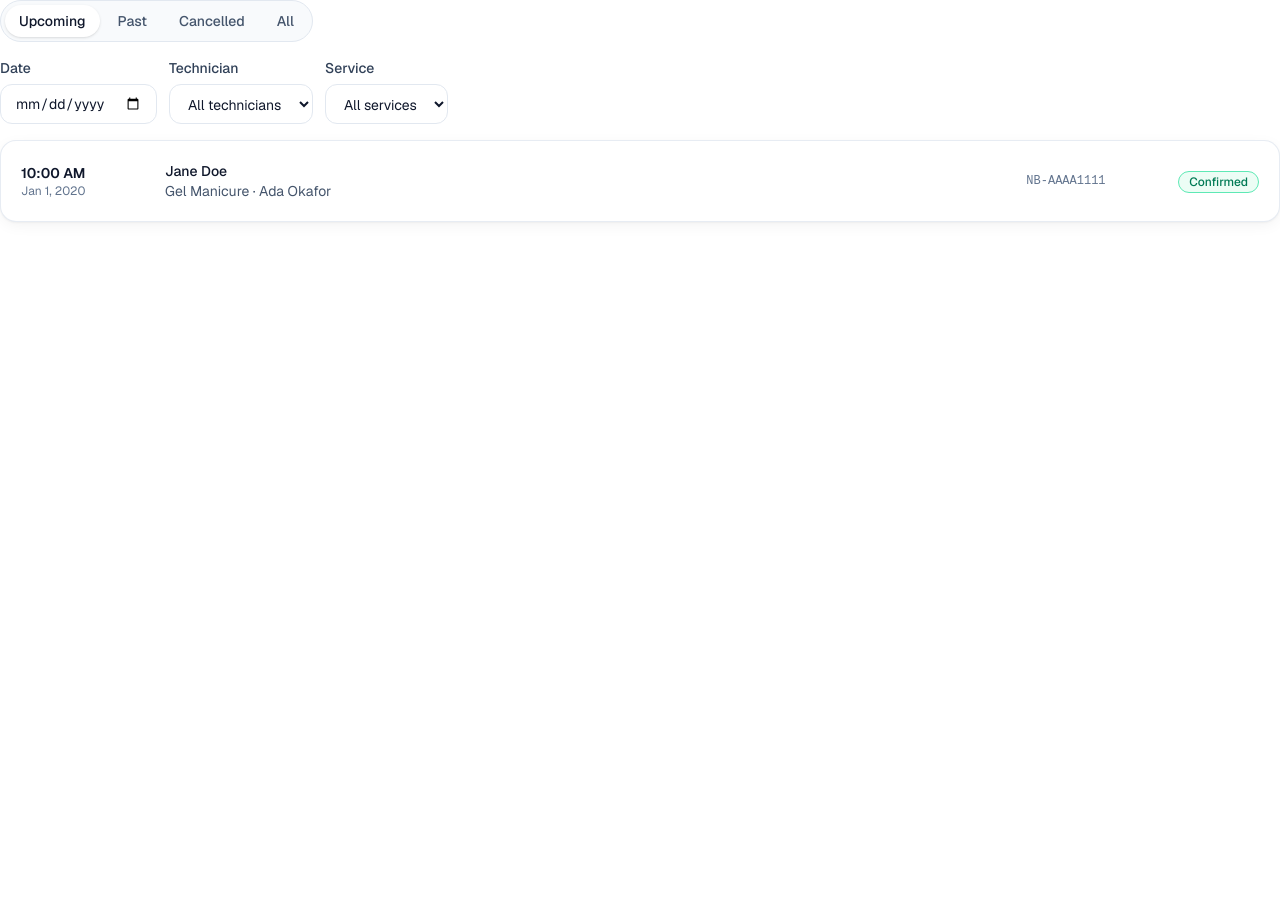
Test: S13-BE lifecycle — Complete › CONFIRMED → Mark completed → confirm → COMPLETED shown → actions removed → moves out of Upcoming into Past
Check: the text "Jane Doe" is shown, box [165,162,227,180]
Click the button with aria-label "view booking details for jane doe" at {"x": 53, "y": 173}, box [21,161,1154,201]
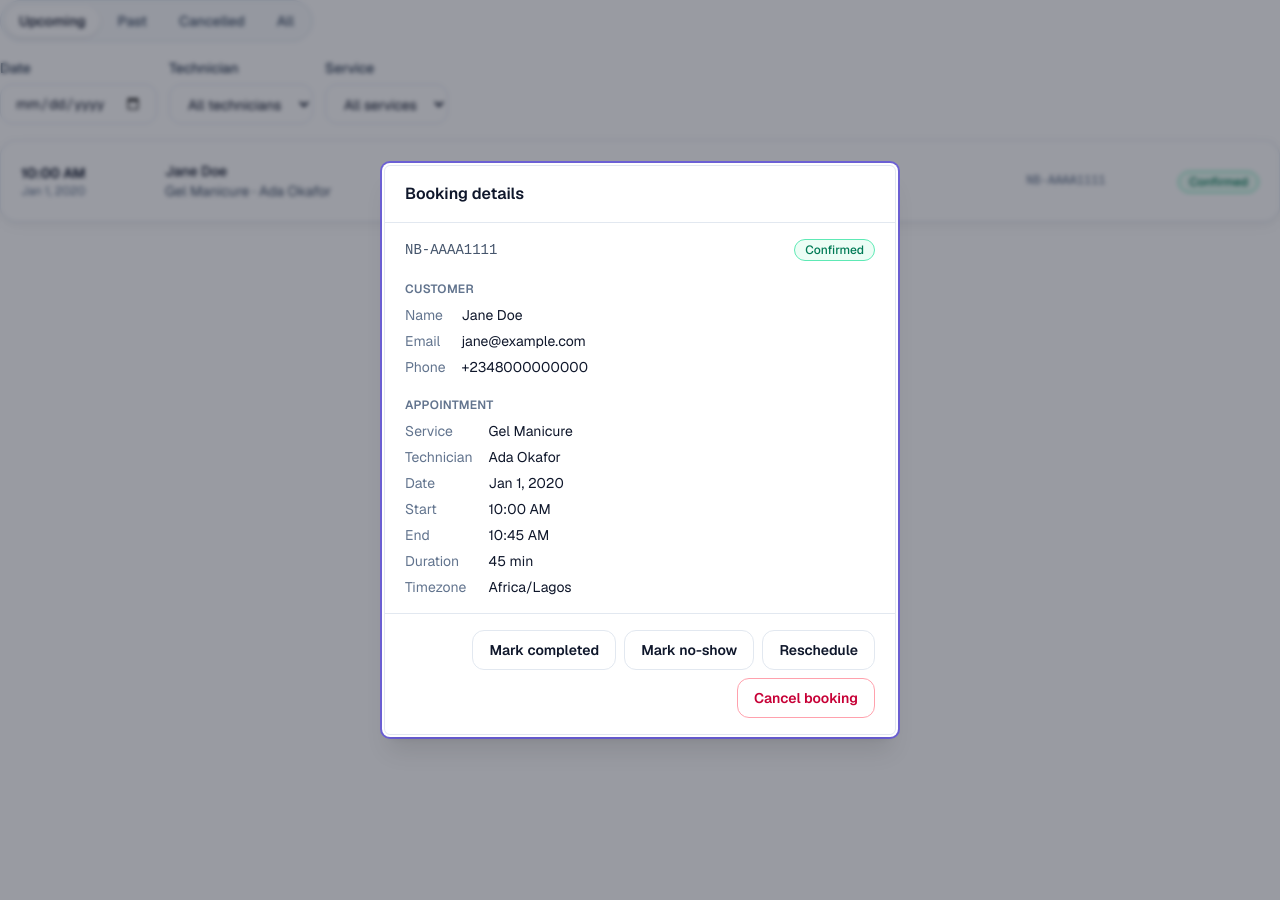
Click the button "Mark completed" at {"x": 544, "y": 650}, box [472,630,616,670]
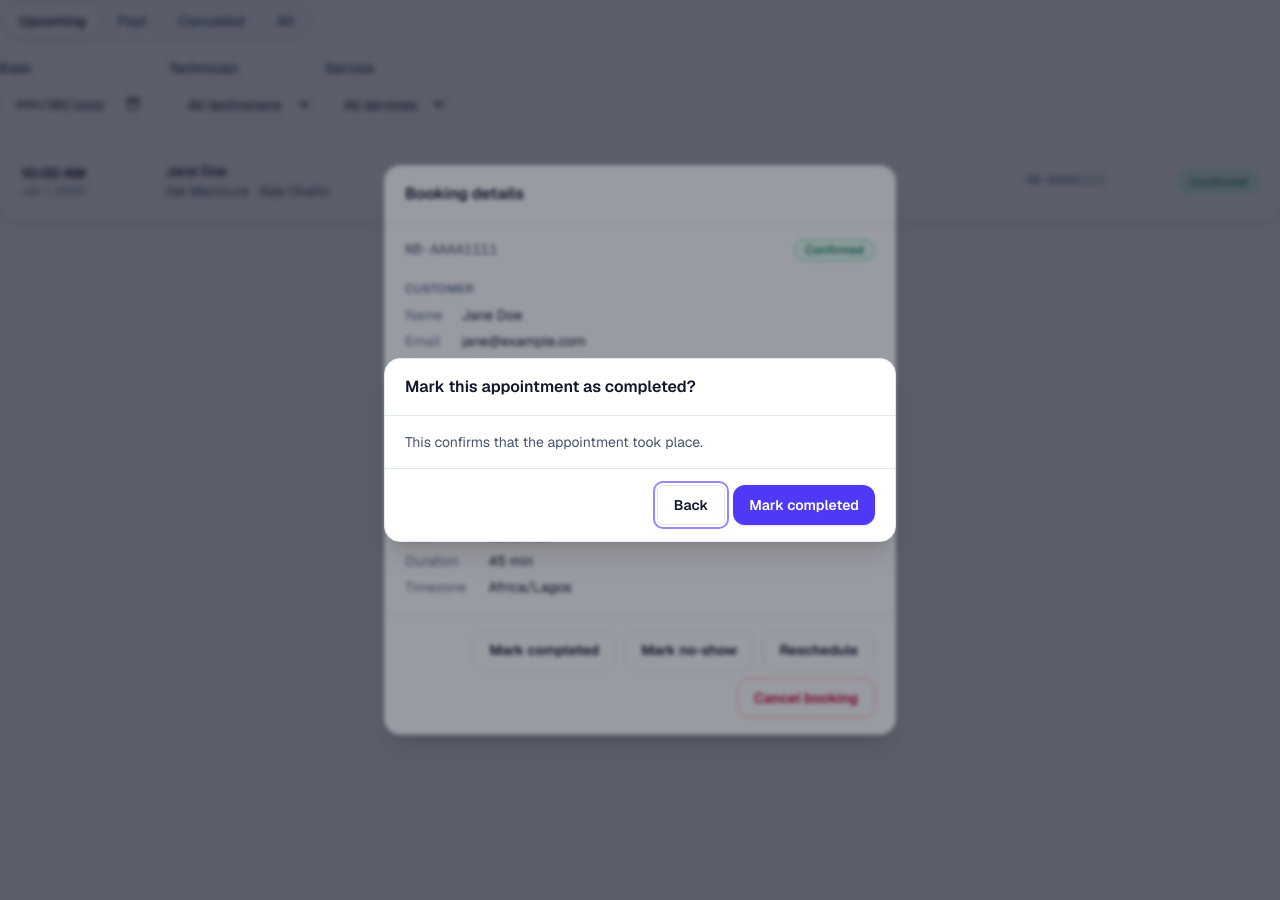
Click the button "Mark completed" at {"x": 804, "y": 505}, box [733,485,875,525]
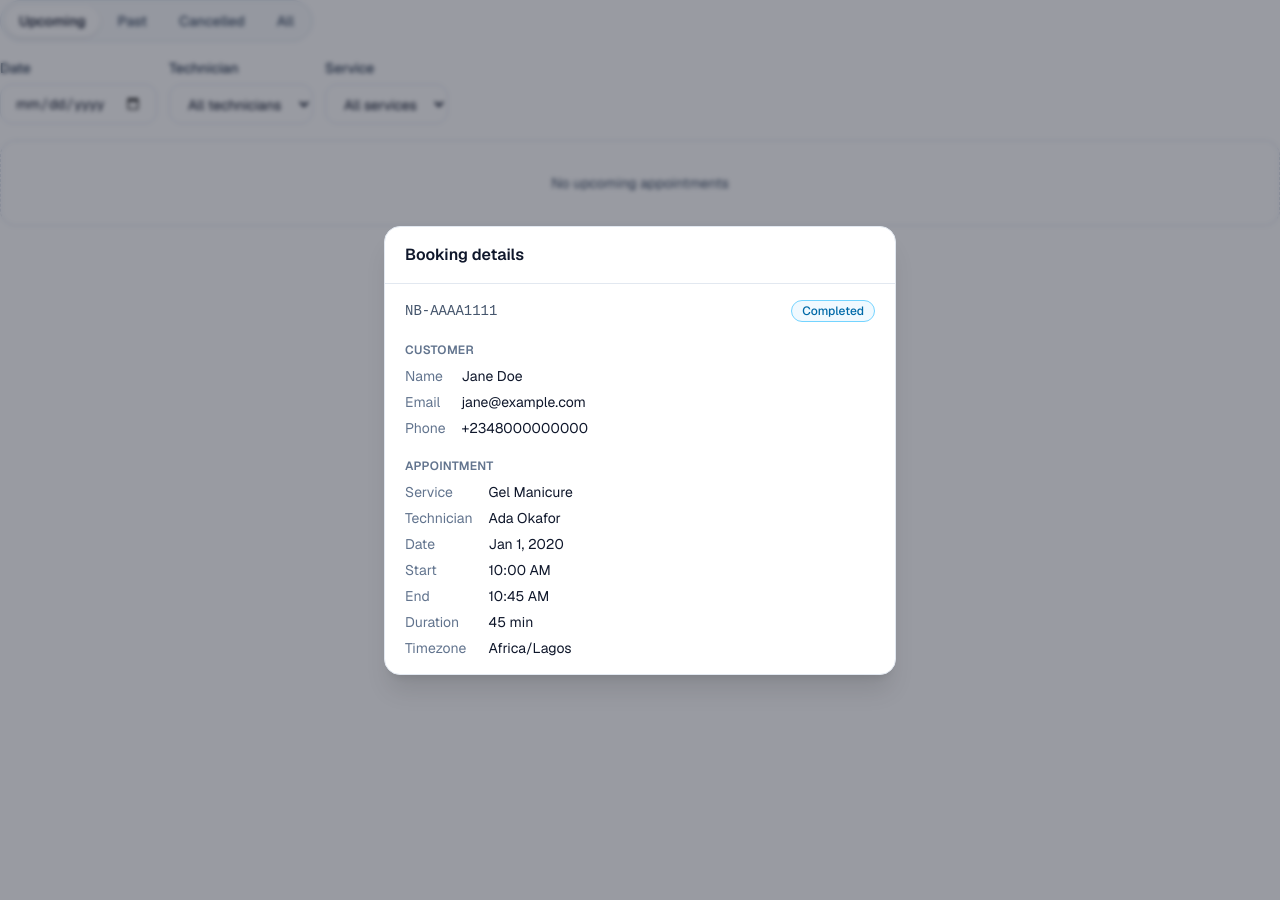
Check: the text "Completed" is shown, box [791,300,875,322]
Check: the button "Mark completed" is gone
Check: the button "Mark no-show" is gone
Click the button named "close booking details" at {"x": 77, "y": 450}, box [0,0,1279,899]
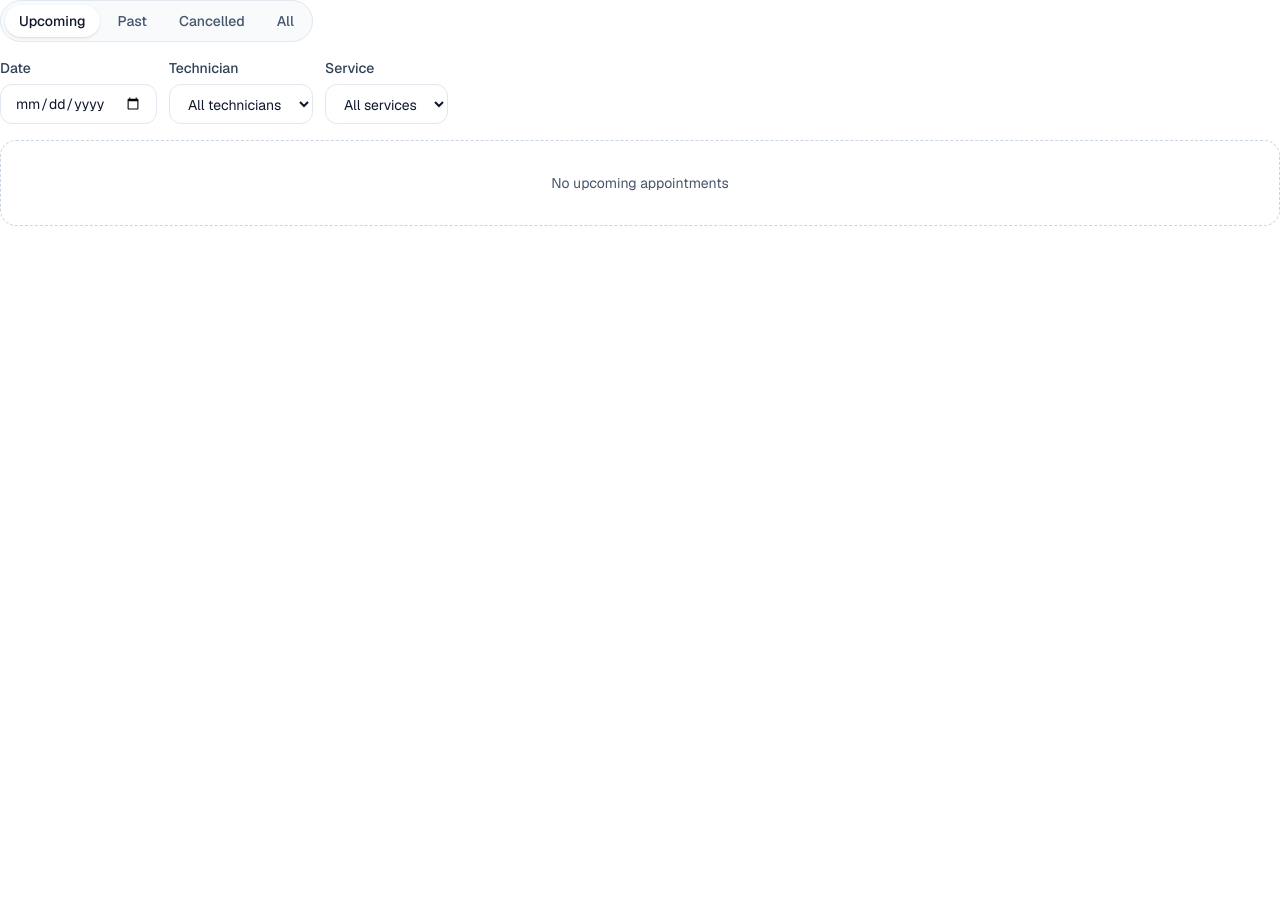
Check: the text "Jane Doe" is gone
Click the tab "Past" at {"x": 132, "y": 21}, box [104,5,161,37]
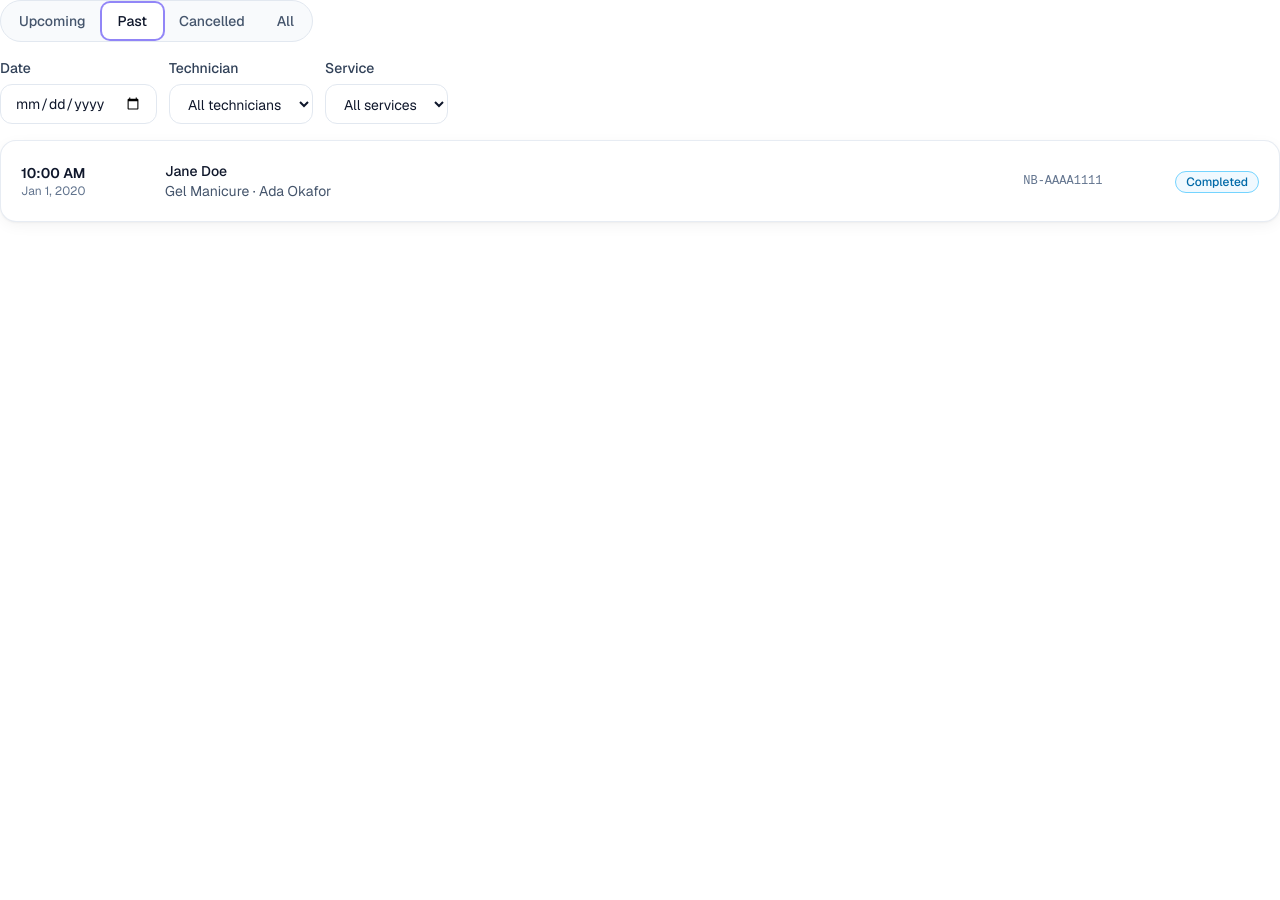
Check: the text "Completed" is shown, box [1175,171,1259,193]
